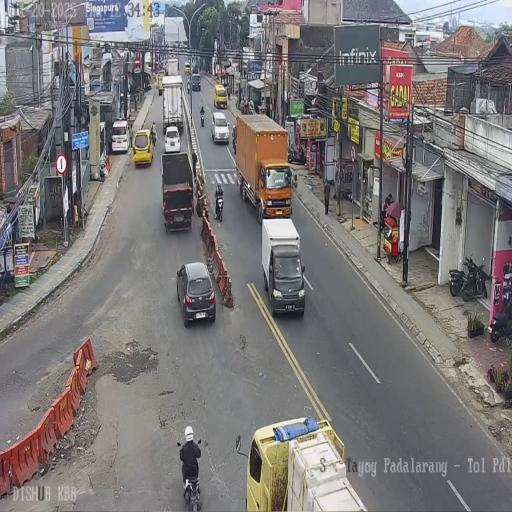car: (261, 219, 305, 315), (176, 262, 217, 328), (132, 128, 154, 166), (110, 119, 131, 155), (211, 112, 229, 144), (164, 126, 181, 154), (214, 84, 227, 108), (120, 88, 131, 113), (191, 69, 201, 92), (157, 74, 164, 95), (184, 62, 190, 74), (164, 63, 169, 76)
motorcycle: (461, 255, 488, 302), (488, 295, 512, 343), (448, 267, 466, 297), (287, 143, 306, 166), (214, 190, 224, 222), (340, 185, 352, 200), (232, 136, 236, 155), (200, 110, 204, 126), (186, 77, 190, 93)
truck: (246, 415, 362, 511), (236, 112, 288, 222), (161, 150, 195, 234), (166, 56, 179, 78), (144, 52, 152, 74)
